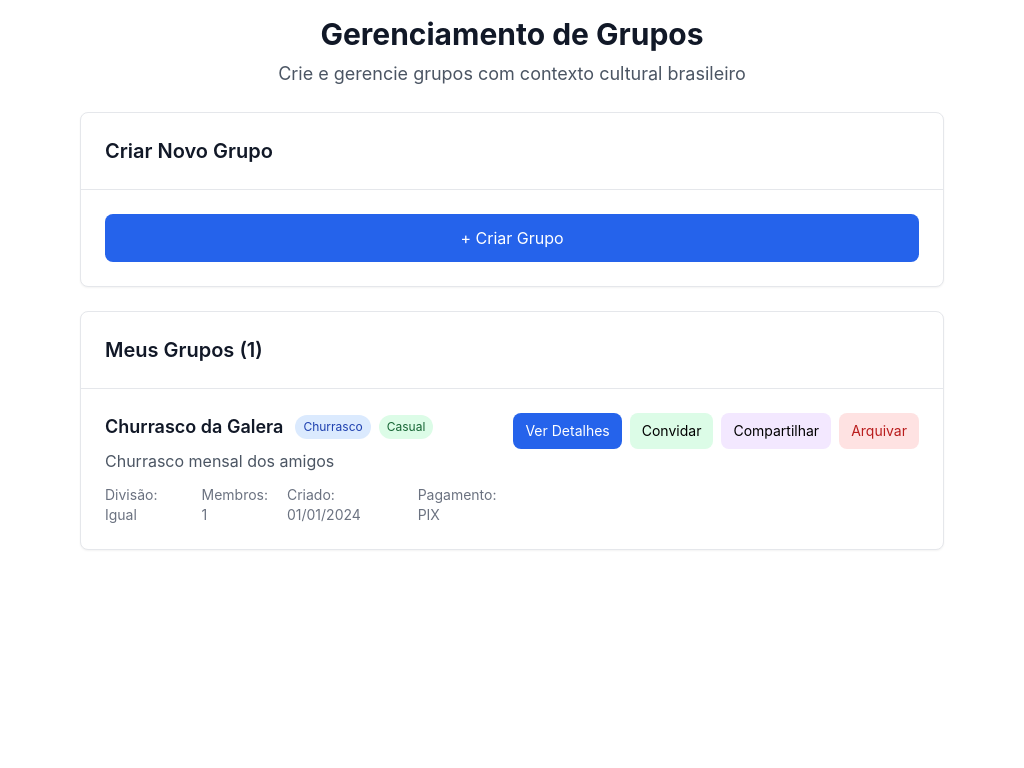
Scenario: GroupManagement Component - Story 5.2 › Acceptance Criteria Tests › should display group roles and permissions clearly
Expected: the heading "Churrasco da Galera" is shown, [105, 413, 283, 441]
Check if group details show roles
Step 1. Click the button "Ver Detalhes" → {"x": 568, "y": 431}, box [513, 413, 622, 449]
(page scrolled)
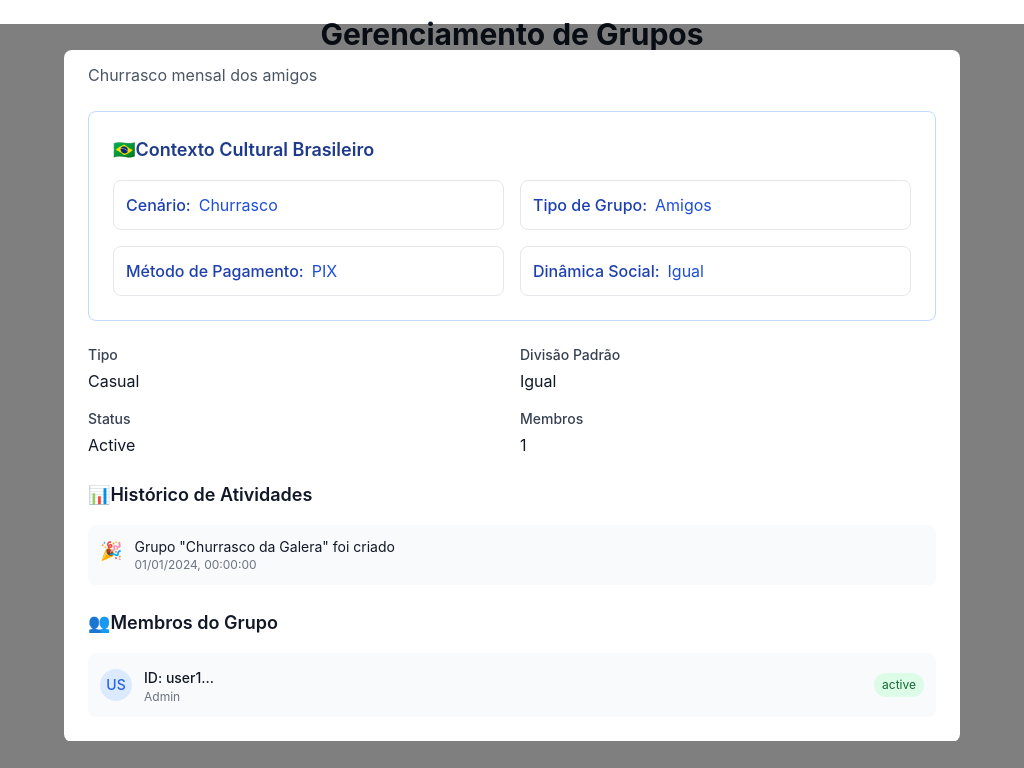
Now the heading "👥 Membros do Grupo" is shown, box [88, 612, 278, 633]
Now the text "admin" is shown, box [144, 689, 180, 704]
